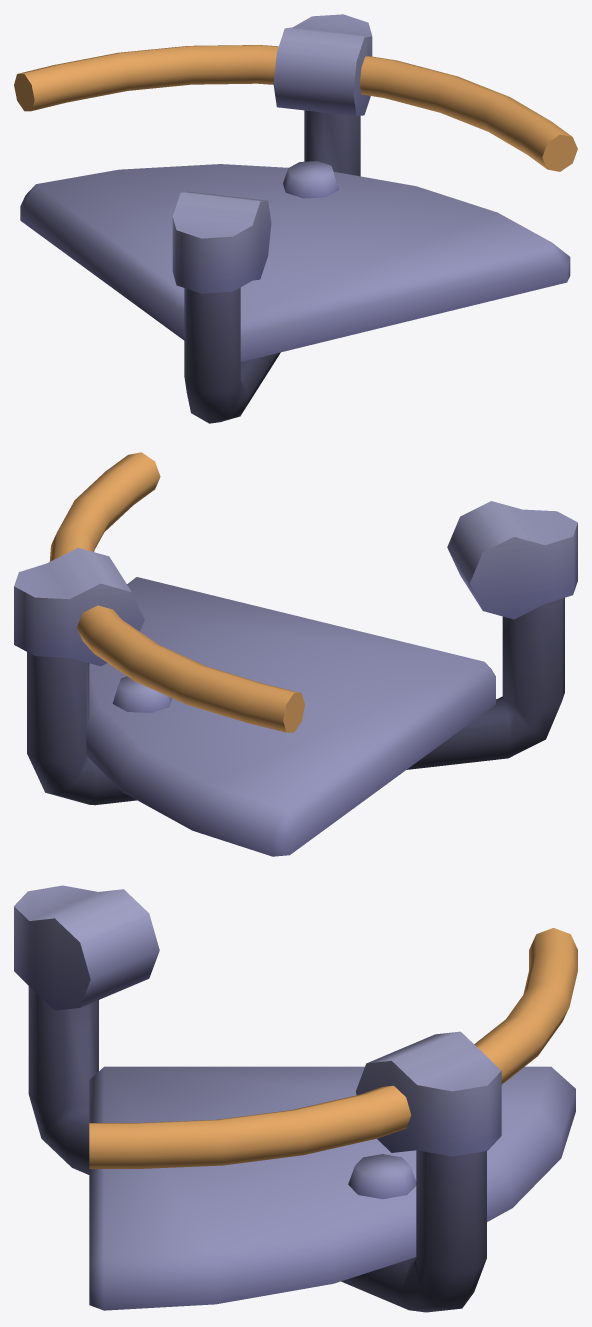
File: catwalk-corner.glb
3 views of the same model, one above another, from view 1: azimuth 30°, elevation 25°; view 2: azimuth 150°, elevation 25°; view 3: azimuth 270°, elevation 25° (orthographic). The views are drawn at different scales.
Parts seen in each view (by area): view 1: catwalk-corner; view 2: catwalk-corner; view 3: catwalk-corner.
Part boxes in pixels (<box>): catwalk-corner: <box>14,14,577,423</box>; catwalk-corner: <box>14,452,577,856</box>; catwalk-corner: <box>14,885,577,1312</box>.
Bounding box in the file's own units: 1.15 × 0.6014 × 1.15.
1 material, 1 textured.
